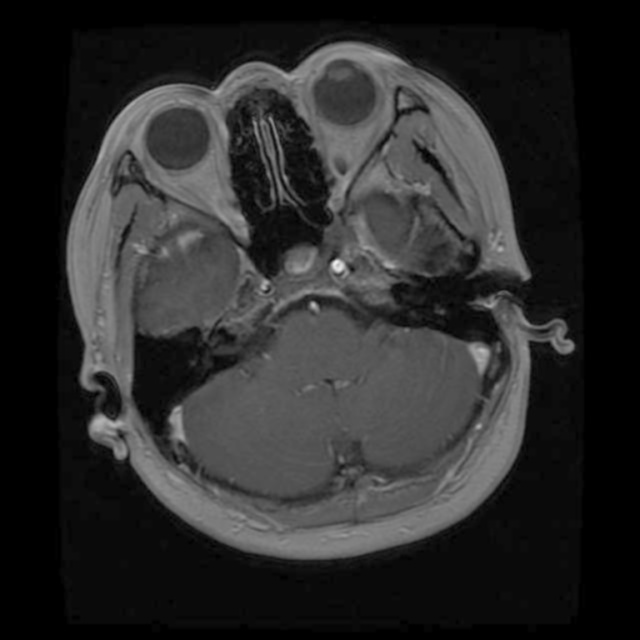no tumor: (282, 243, 322, 275)
